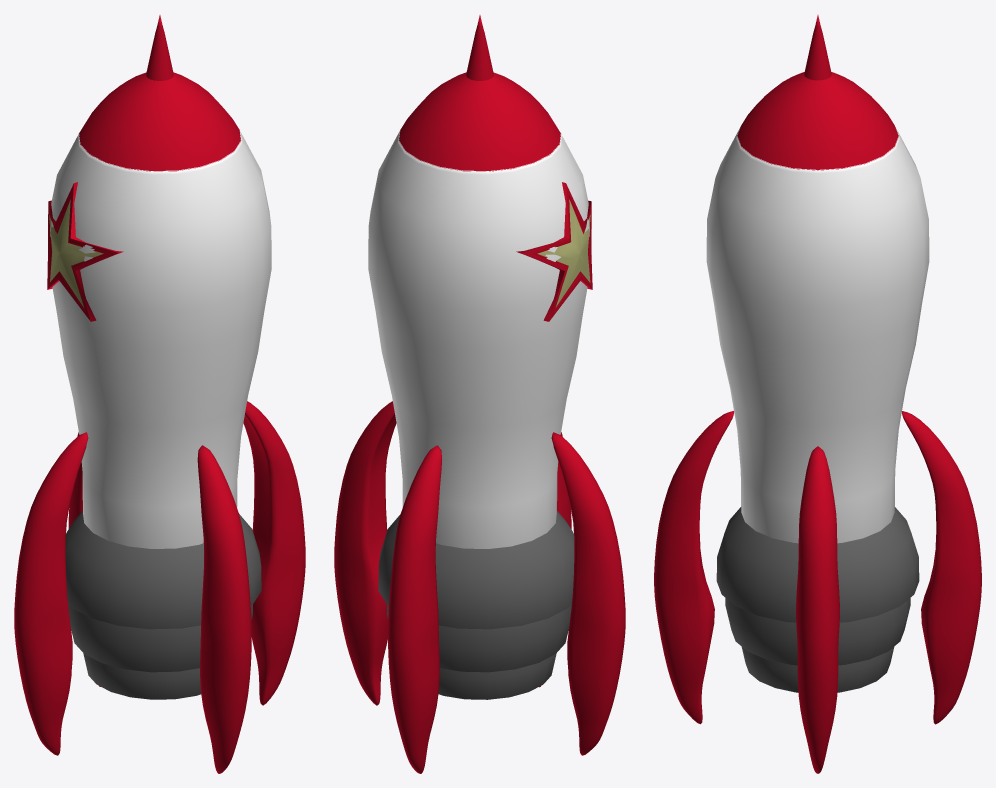
The model's file is Rocket.fbx.
The picture shows the model from 3 angles, left to right: view 1: azimuth 30°, elevation 25°; view 2: azimuth 150°, elevation 25°; view 3: azimuth 270°, elevation 25°; orthographic projection.
Visible parts, largest first — view 1: Body, stands_002, Cap, stands_004, Propellor1, stands_001, Propellor2, Hatch, Propellor3, stands_003; view 2: Body, stands_002, Cap, stands_003, Propellor1, stands_001, Propellor2, Hatch, Propellor3, stands_004; view 3: Body, Propellor1, Cap, stands_003, stands_004, stands_001, Propellor2, Propellor3.
Part boxes in pixels (left/top/right/bottom): Body: left=50, top=131, right=271, bottom=548; stands_002: left=14, top=432, right=88, bottom=755; Cap: left=79, top=15, right=240, bottom=171; stands_004: left=197, top=445, right=251, bottom=773; Propellor1: left=65, top=511, right=261, bottom=629; stands_001: left=243, top=401, right=305, bottom=705; Propellor2: left=68, top=604, right=252, bottom=672; Hatch: left=47, top=182, right=123, bottom=321; Propellor3: left=83, top=653, right=201, bottom=699; stands_003: left=68, top=432, right=100, bottom=686; Body: left=368, top=131, right=591, bottom=548; stands_002: left=551, top=432, right=625, bottom=755; Cap: left=399, top=15, right=560, bottom=171; stands_003: left=388, top=445, right=441, bottom=773; Propellor1: left=378, top=511, right=574, bottom=629; stands_001: left=334, top=401, right=396, bottom=705; Propellor2: left=387, top=604, right=571, bottom=672; Hatch: left=516, top=182, right=592, bottom=321; Propellor3: left=438, top=653, right=556, bottom=699; stands_004: left=539, top=432, right=571, bottom=687; Body: left=706, top=126, right=929, bottom=543; Propellor1: left=716, top=507, right=919, bottom=622; Cap: left=737, top=15, right=898, bottom=170; stands_003: left=901, top=411, right=981, bottom=724; stands_004: left=654, top=411, right=733, bottom=724; stands_001: left=796, top=446, right=839, bottom=773; Propellor2: left=725, top=598, right=910, bottom=665; Propellor3: left=741, top=647, right=894, bottom=692.
Size of the model in its own units: 185 by 443 by 185.
